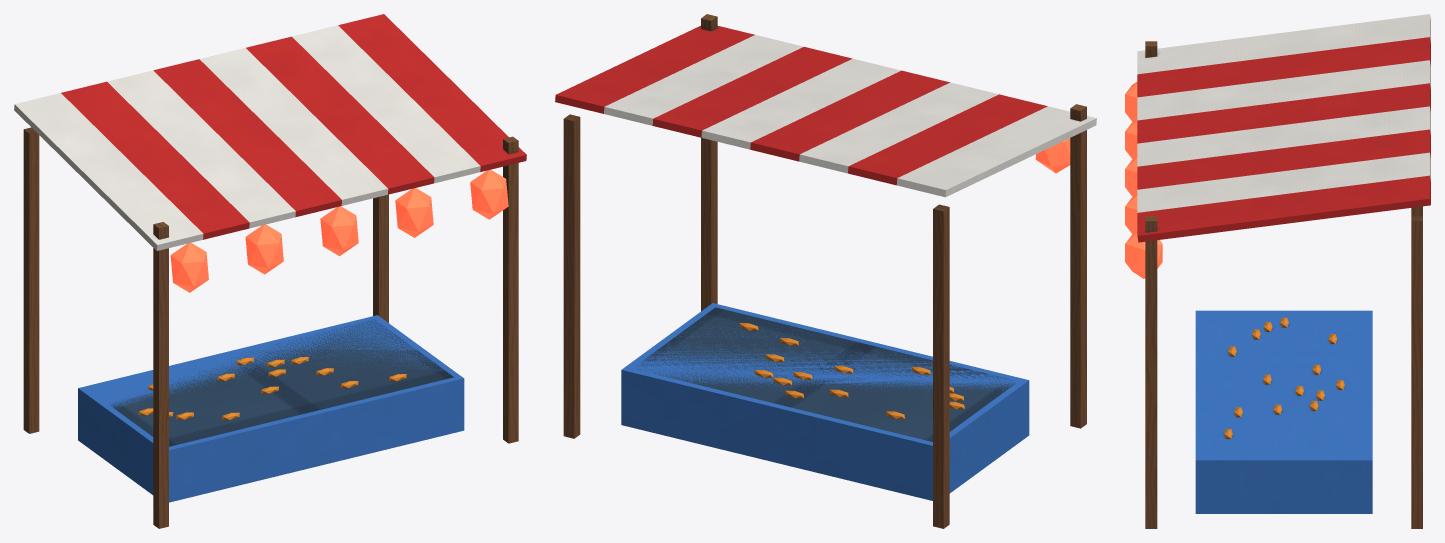
Rendered from kingyo_tex.glb.
The picture shows the model from 3 angles, left to right: view 1: azimuth 30°, elevation 25°; view 2: azimuth 150°, elevation 25°; view 3: azimuth 270°, elevation 25°; orthographic projection. The views are drawn at different scales.
Visible parts, largest first — view 1: kingyo; view 2: kingyo; view 3: kingyo.
Boxes of the visible parts, x1=… form: kingyo: x1=14, y1=14, x2=526, y2=528; kingyo: x1=555, y1=14, x2=1096, y2=528; kingyo: x1=1125, y1=14, x2=1430, y2=528.
Bounding box in the file's own units: 2.96 × 2.48 × 2.07.
Materials: 7 (5 with a texture image).
